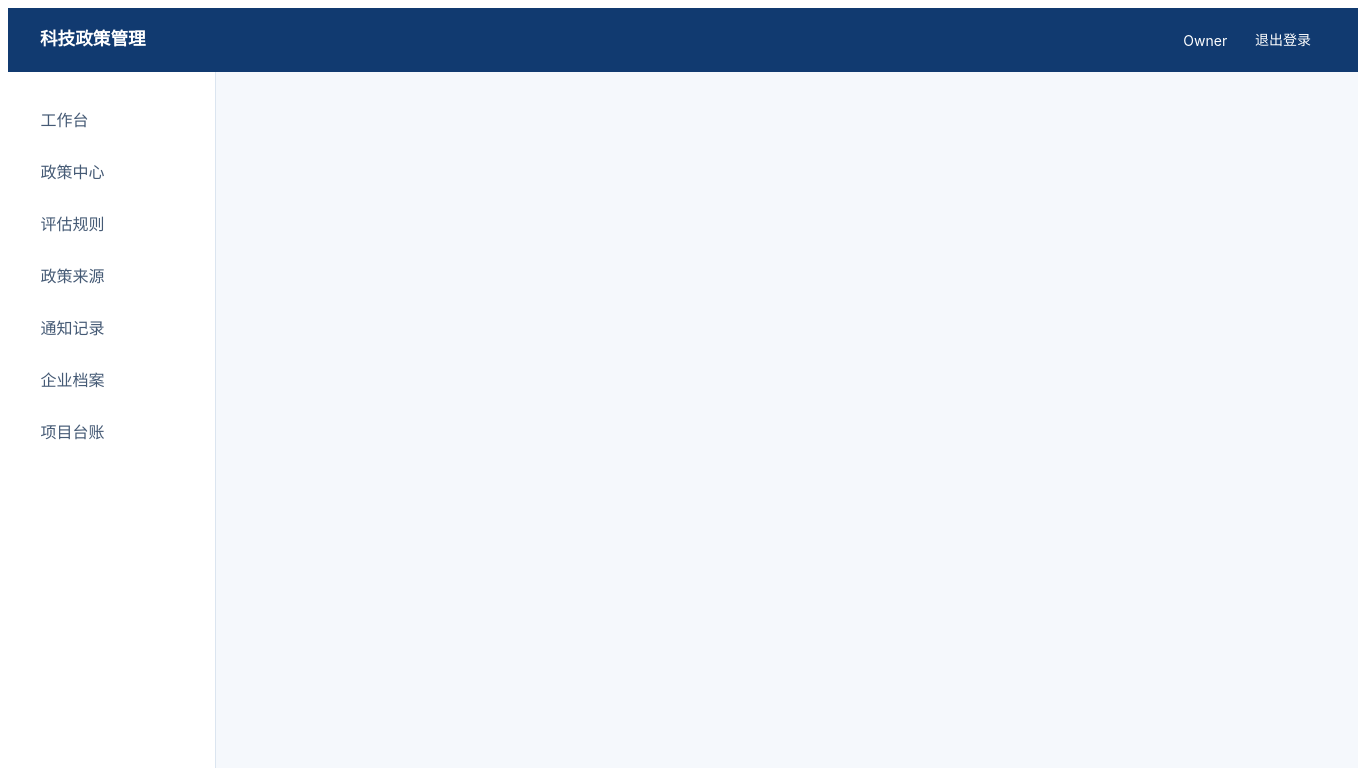
Test: AppLayout › keeps the session visible and offers retry feedback when logout fails
The image size is (1366, 768).
Click the button "退出登录".
click(1283, 40)  # box [1240,24,1326,56]
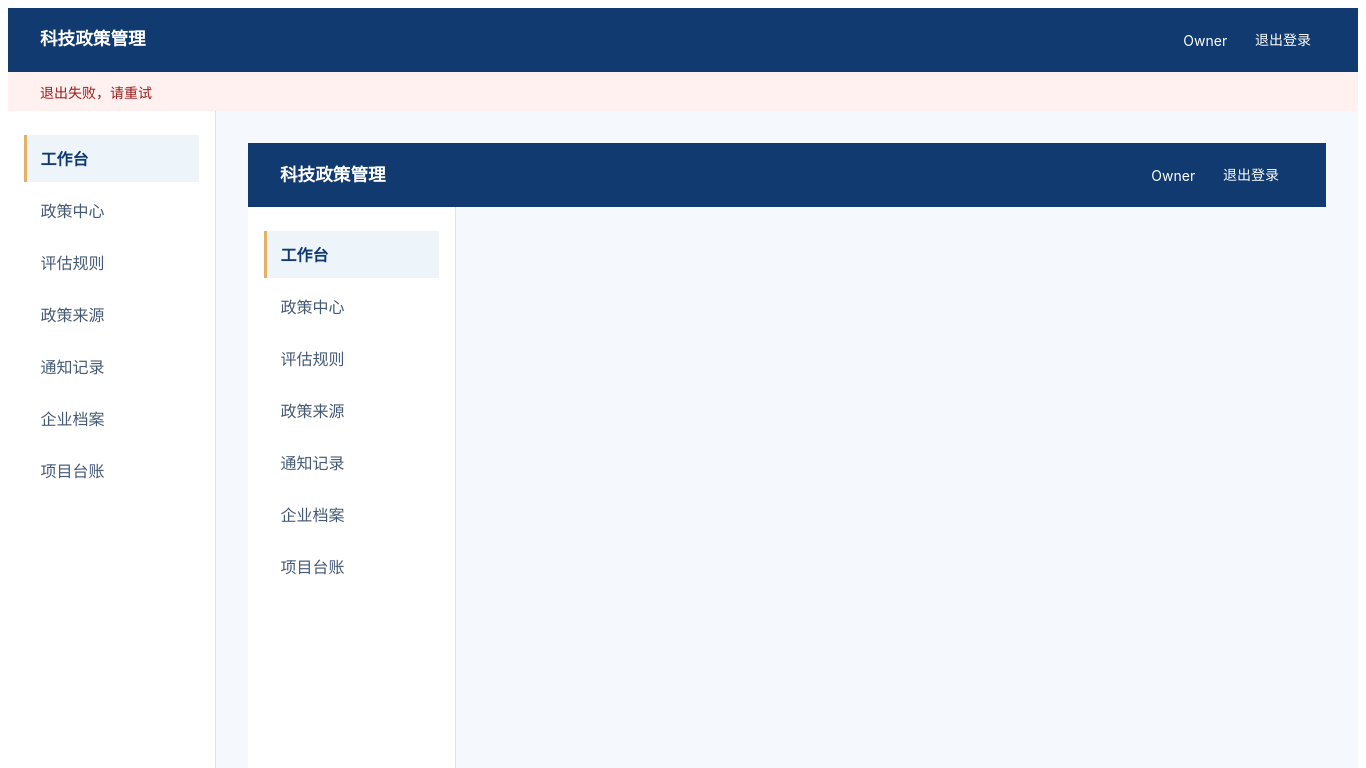
Expected: the text "退出登录" is shown, [1255,33,1311,47]
Now the text "退出失败，请重试" is shown, box [8,72,1358,111]
